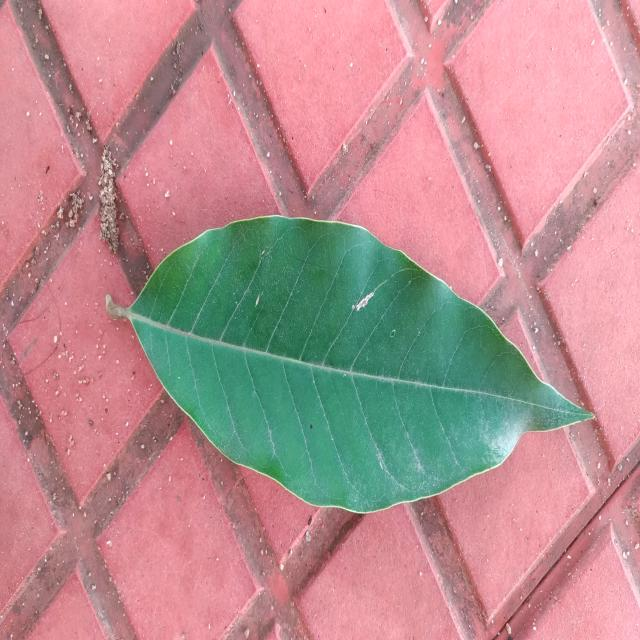coffee: (106, 216, 590, 513)
